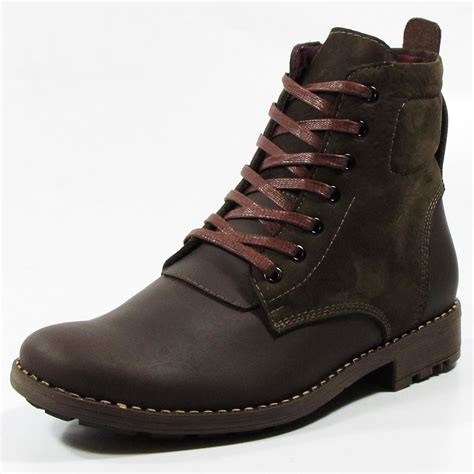cuero: (15, 17, 459, 415)
